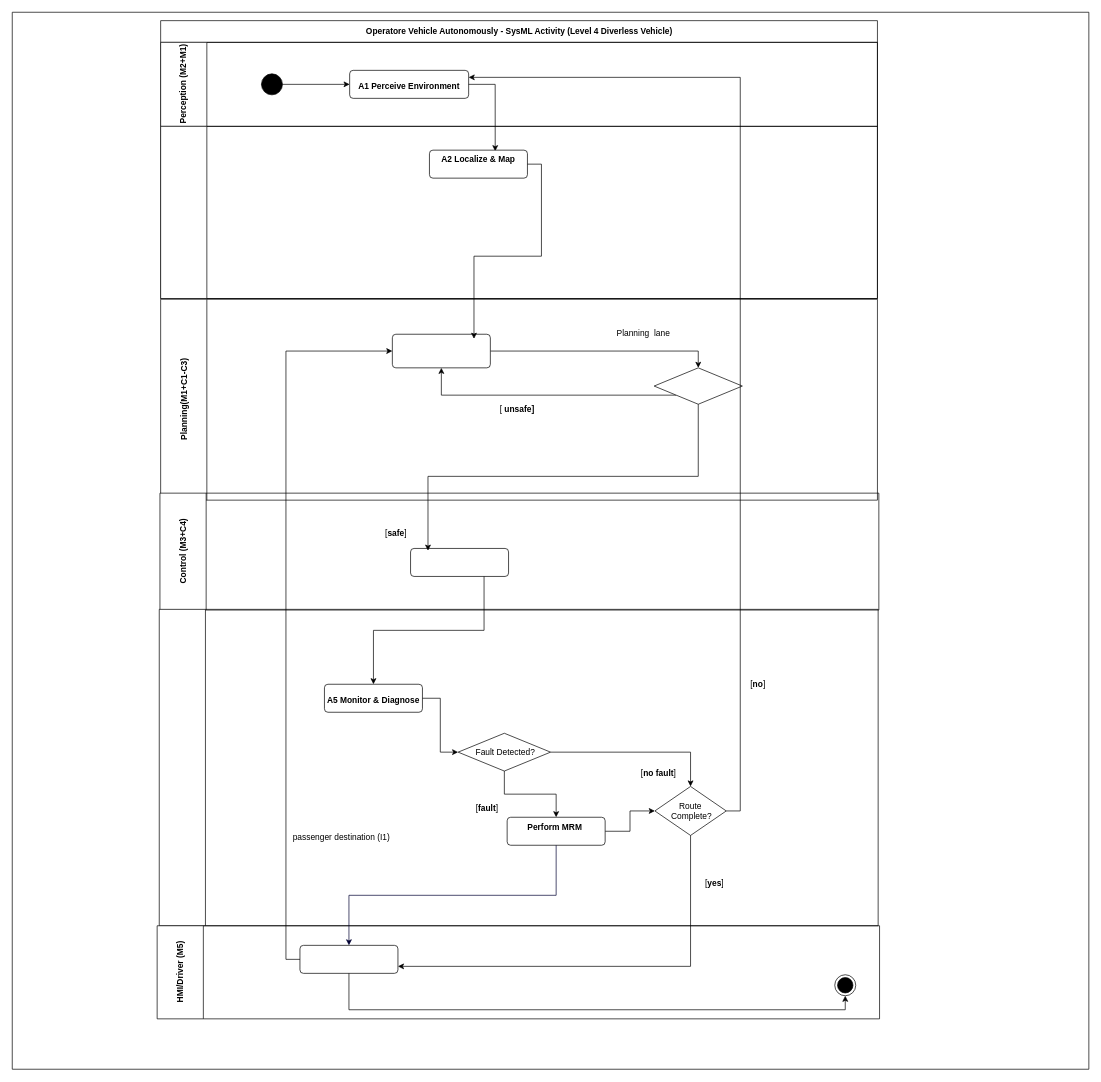
Some shapes in this 1101 by 1082 pixel diagram are drawn without their labels. The shapes that lost their labels are listed below. From the top down, each one's box as (x1, y1, x2, y2) in pixels, then its label:
(160, 126, 877, 299): Localization & Mapping (M1+M3)
(392, 334, 490, 368): A3 Plan Path & Maneuvers
(653, 367, 742, 404): Safe to Execute?
(410, 548, 509, 576): A4 Control Vehicle
(159, 609, 878, 926): Safety Monitor /Diagnostics (M1)
(299, 945, 398, 973): A6 Interface with Passenger
